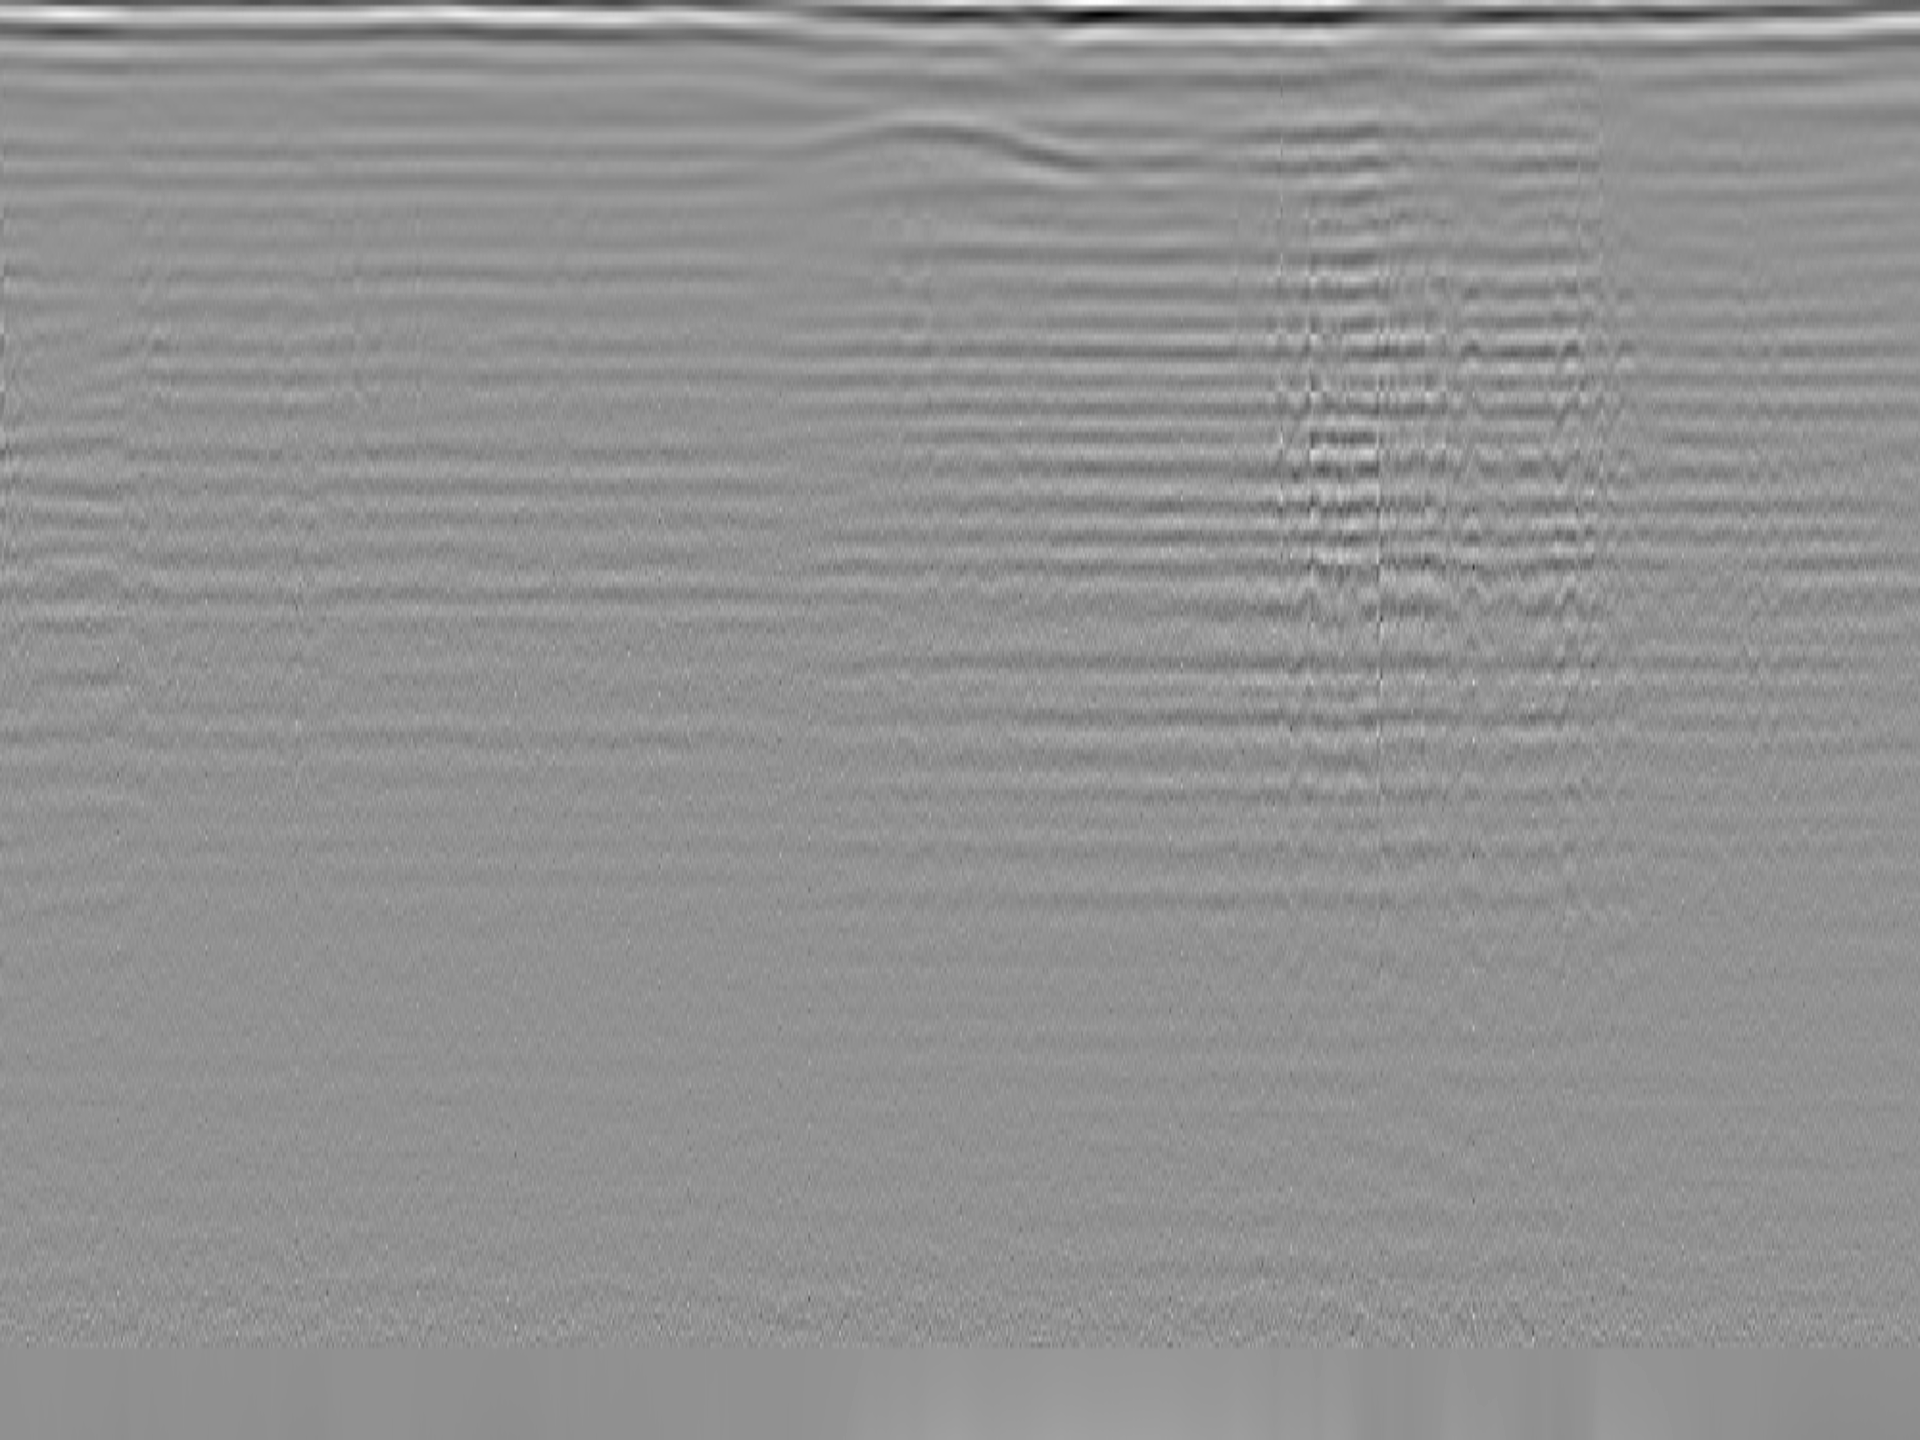Tunnel: (770, 112, 1104, 175)
